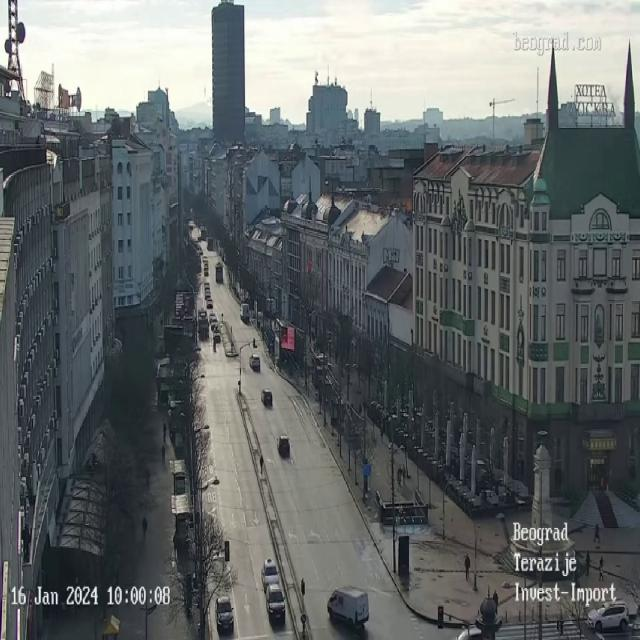car: (328, 586, 368, 623), (586, 600, 630, 632), (266, 583, 284, 625), (215, 596, 233, 632), (458, 626, 494, 640), (264, 562, 280, 591), (198, 309, 210, 337), (277, 435, 290, 458), (241, 305, 250, 332), (261, 388, 272, 407), (251, 354, 259, 372)
